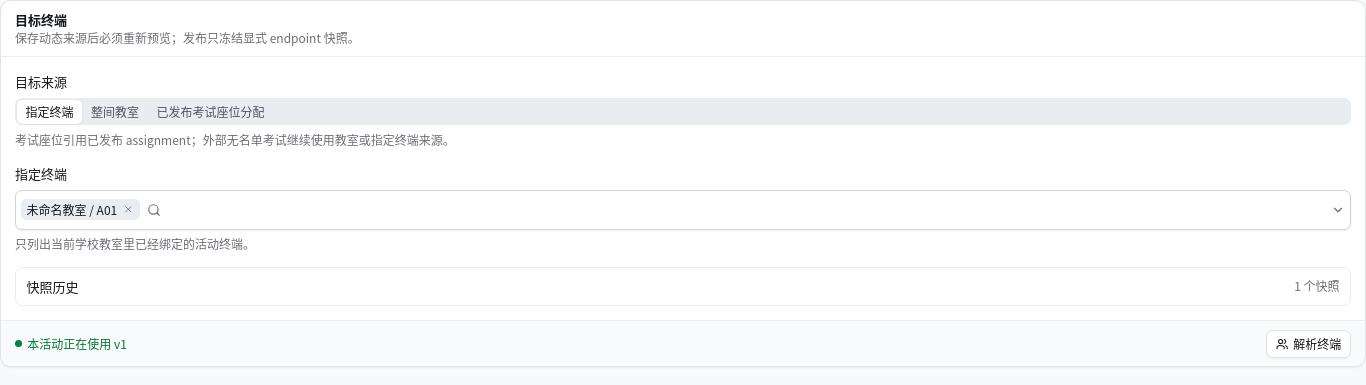
Test: exam event target step › 教室选择器只列出本活动学校的教室
Click the tab "整间教室".
click(115, 112)  # box [82,100,148,124]
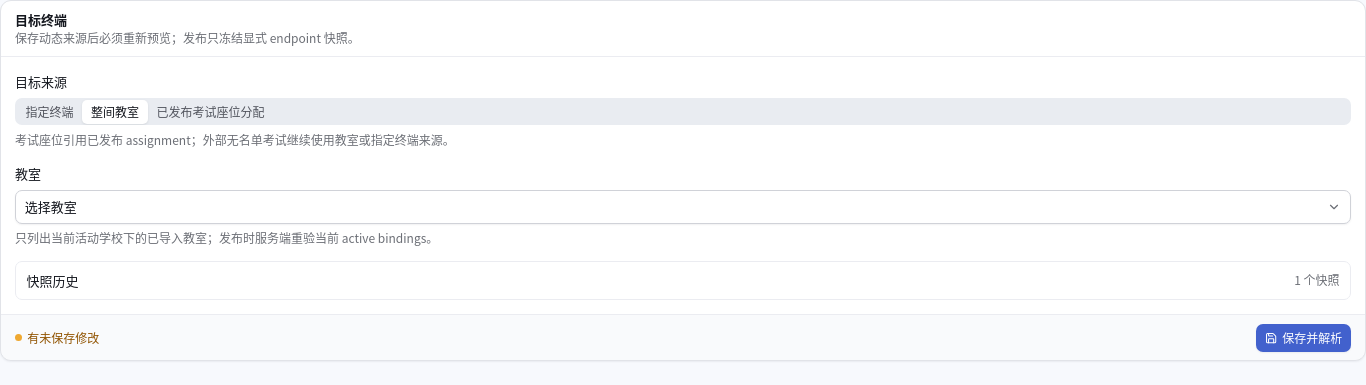
Click the dropdown labelled "教室".
click(51, 206)  # box [15,190,1351,224]
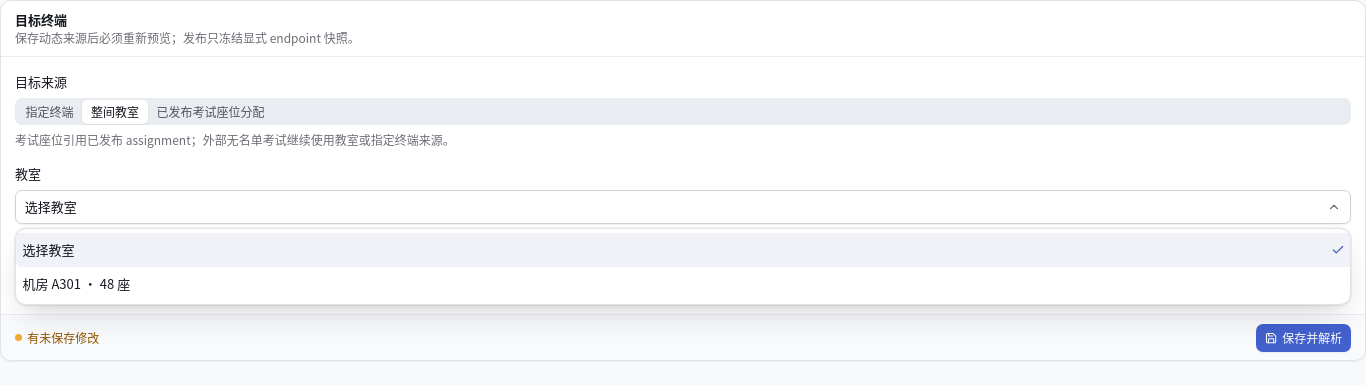
Expected: the option "机房 A301 · 48 座" is shown, [22,274,130,293]
